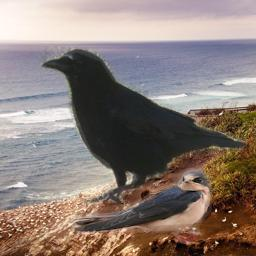Crow: (35, 44, 246, 203)
Swallow: (71, 167, 212, 244)
